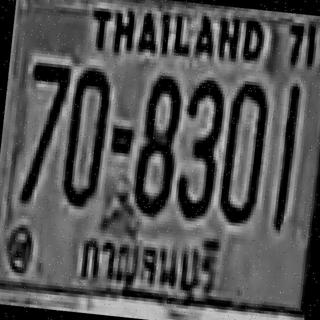N00: (216, 78, 269, 223), (59, 63, 112, 205)
N03: (172, 76, 225, 218)
N07: (20, 58, 70, 188), (24, 59, 70, 155)
N08: (130, 70, 181, 216)
P17: (71, 223, 234, 307)
